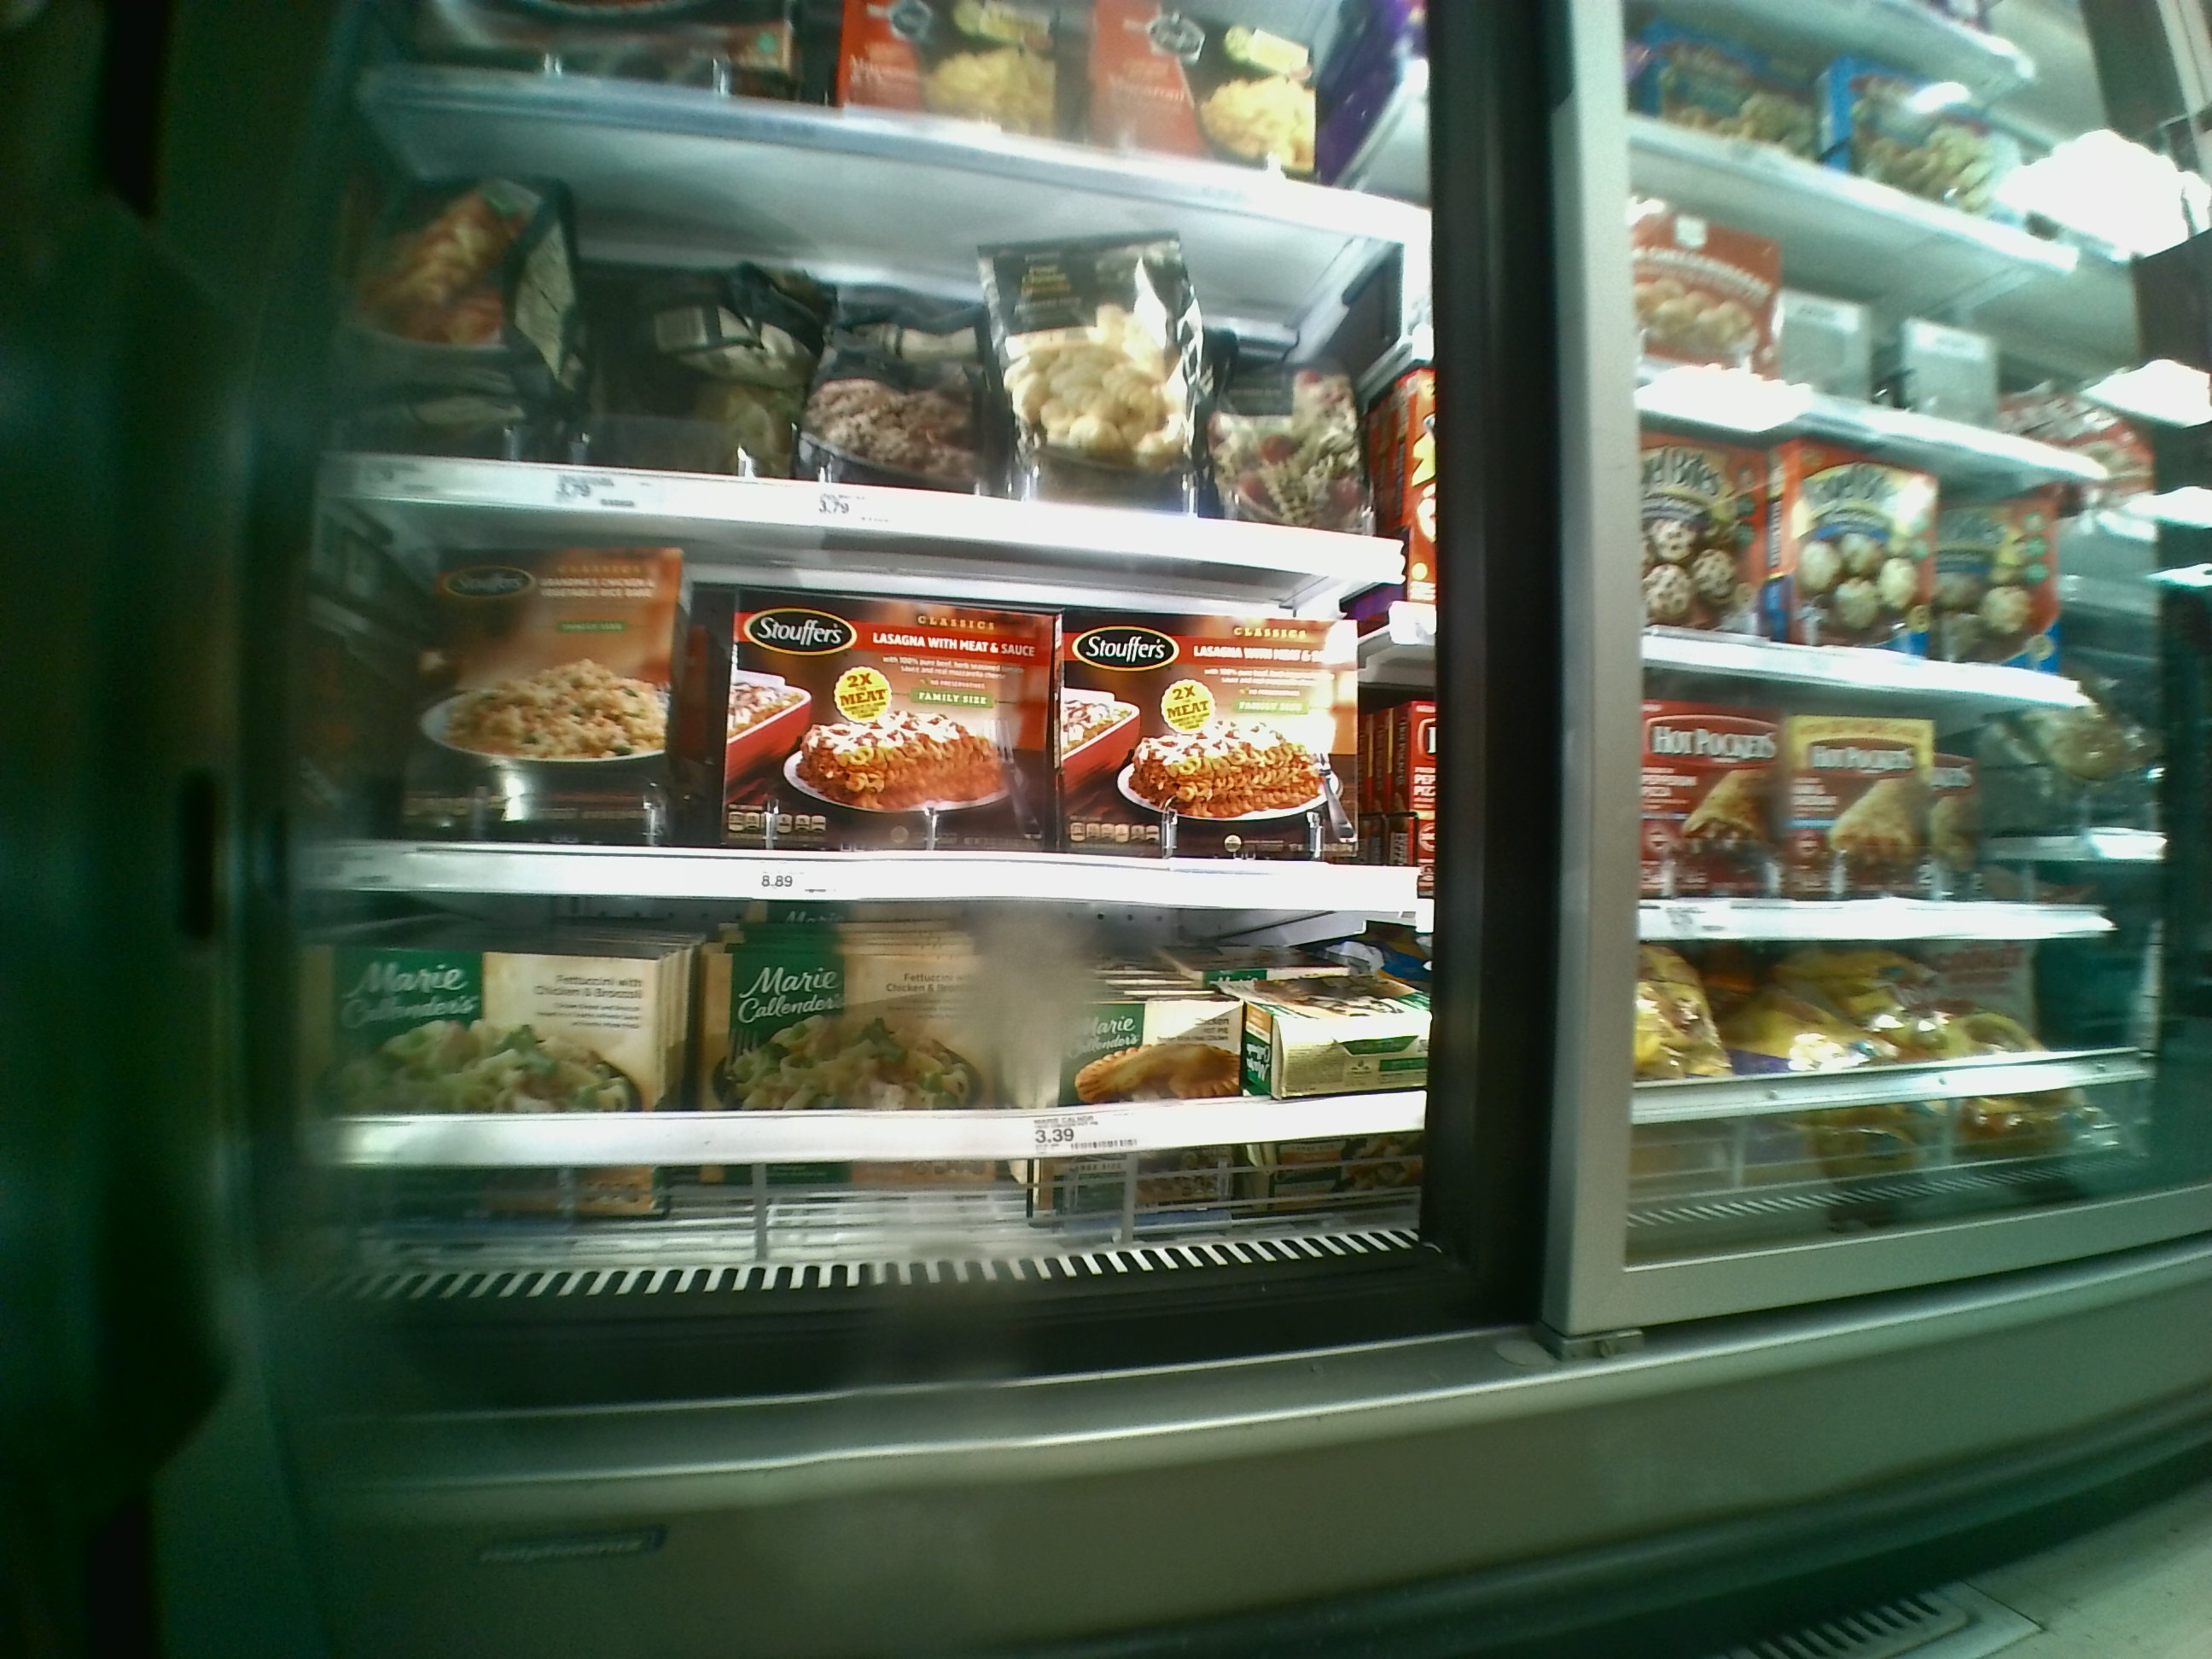shelf: (317, 896, 1447, 1281), (322, 164, 1411, 538), (314, 558, 1428, 903)
